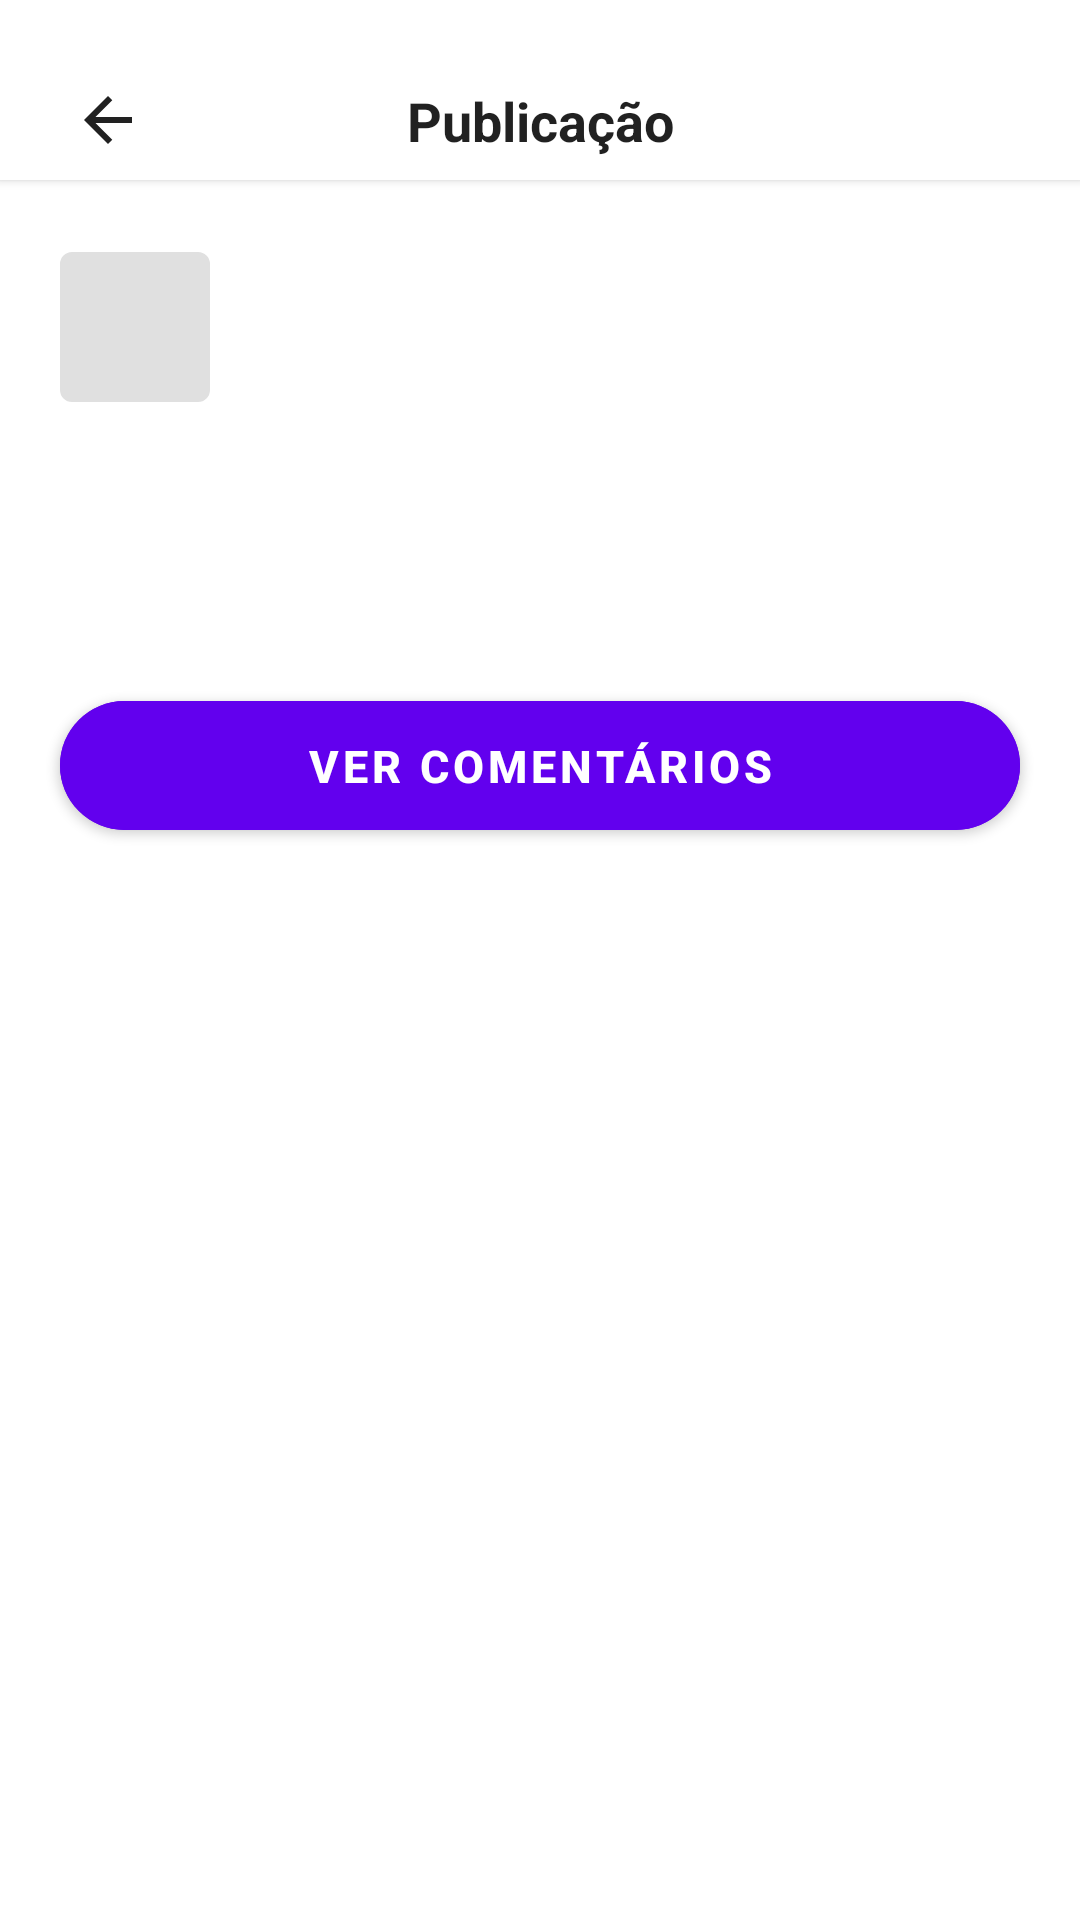

Icons on this 1080×1920 Android screen, each with the point to tap as (x,y):
Voltar: (108,120)
